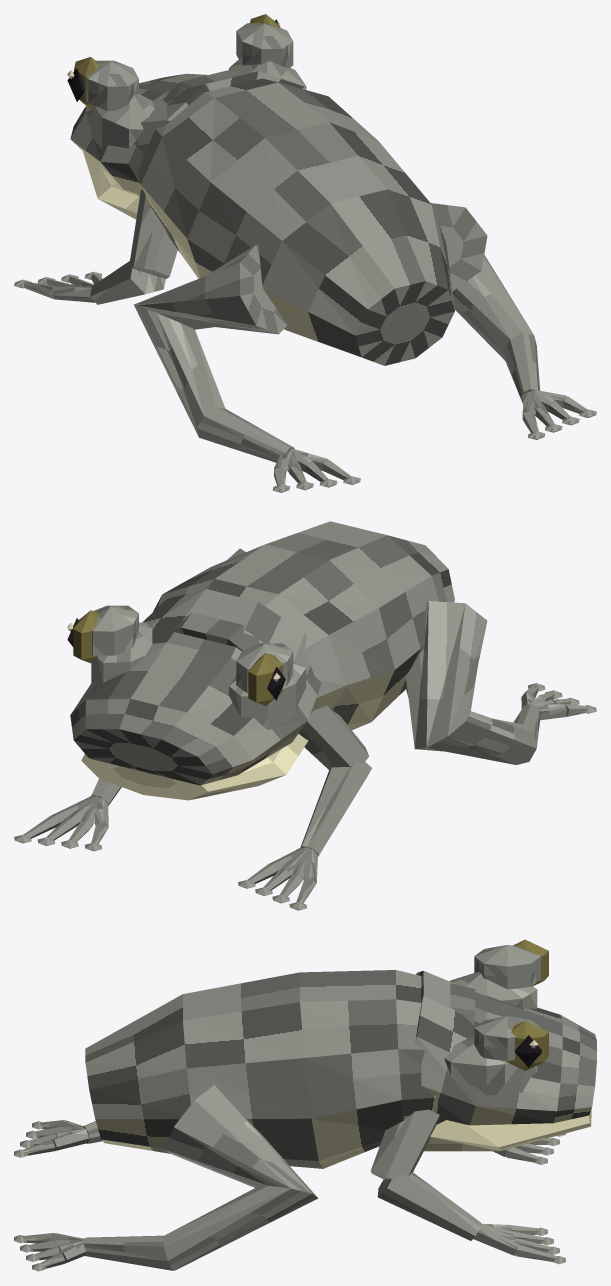
The model's file is mon_gray_frog.glb.
3 views of the same model, one above another, from view 1: azimuth 30°, elevation 25°; view 2: azimuth 150°, elevation 25°; view 3: azimuth 270°, elevation 25° (orthographic). The views are drawn at different scales.
Parts seen in each view (by area): view 1: closed_body; view 2: closed_body; view 3: closed_body.
Part boxes in pixels (x1,y1,x2,y2): closed_body: (14,14,596,492); closed_body: (14,521,596,910); closed_body: (14,939,596,1271).
Size of the model in its own units: 0.1107 by 0.0724 by 0.1734.
Materials: 1 (1 with a texture image).
